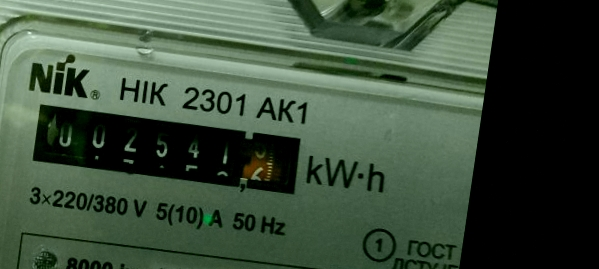0: (86, 116, 110, 152), (56, 118, 77, 149)
1: (214, 132, 234, 167)
2: (117, 120, 143, 156)
4: (183, 128, 204, 161)
5: (151, 127, 171, 160)
6: (247, 160, 265, 183)
screen: (14, 84, 324, 216)
